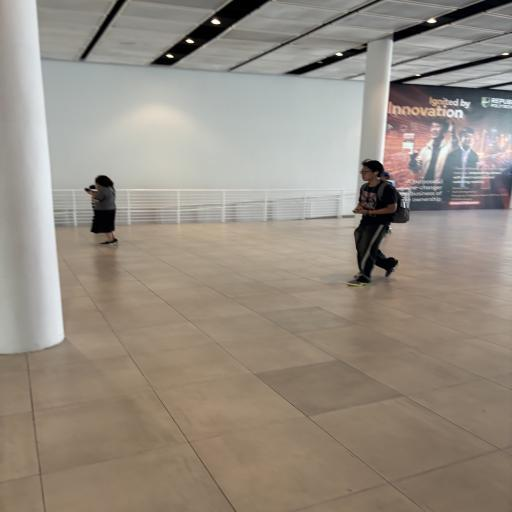person_left: (354, 156, 404, 290), (82, 171, 128, 249)
